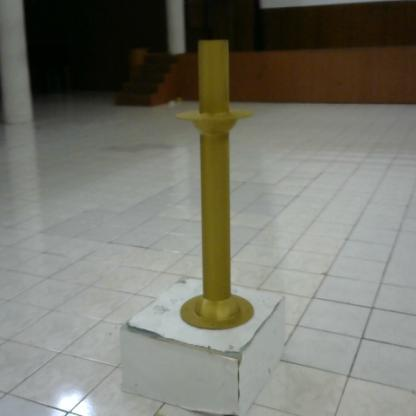pole: (169, 37, 263, 333)
